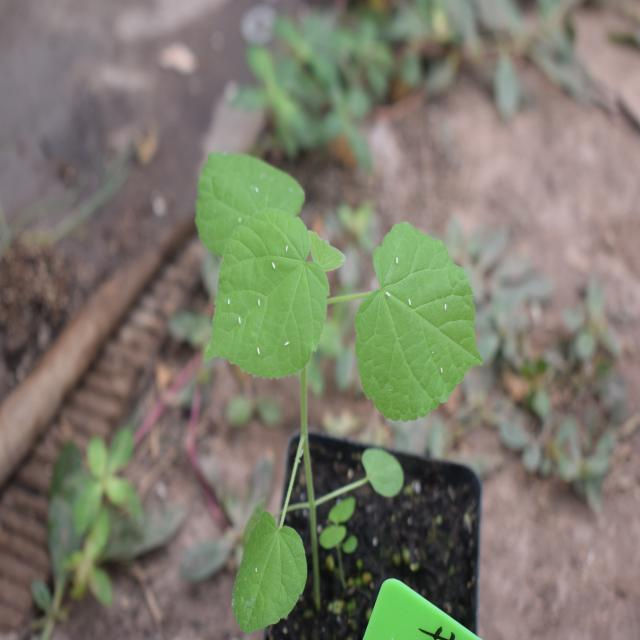abutilon theophrasti: (187, 122, 489, 449)
